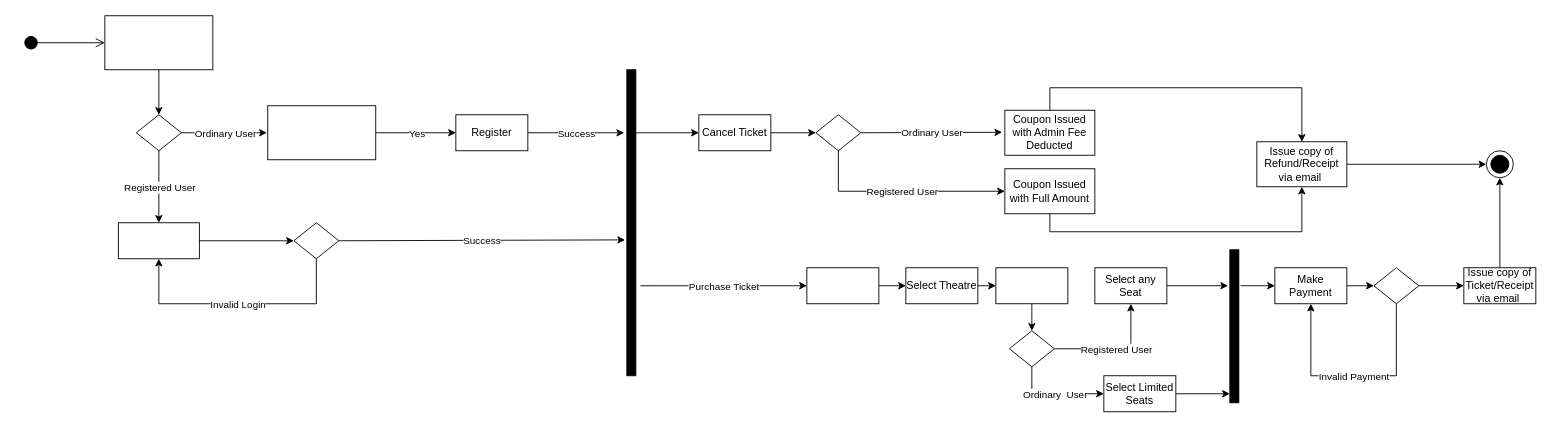
The diagram is 1552 pixels wide and 428 high, and some of its shapes have lost their labels. Here are the shapes that lost their labels. From the top down, the centre of each, then its label:
At point (158, 42): "Check User Type: Ordinary or Registered".
At point (321, 132): "Prompt Registration".
At point (158, 240): "Login".
At point (842, 285): "Search Movie".
At point (1031, 285): "Select Showtime".
